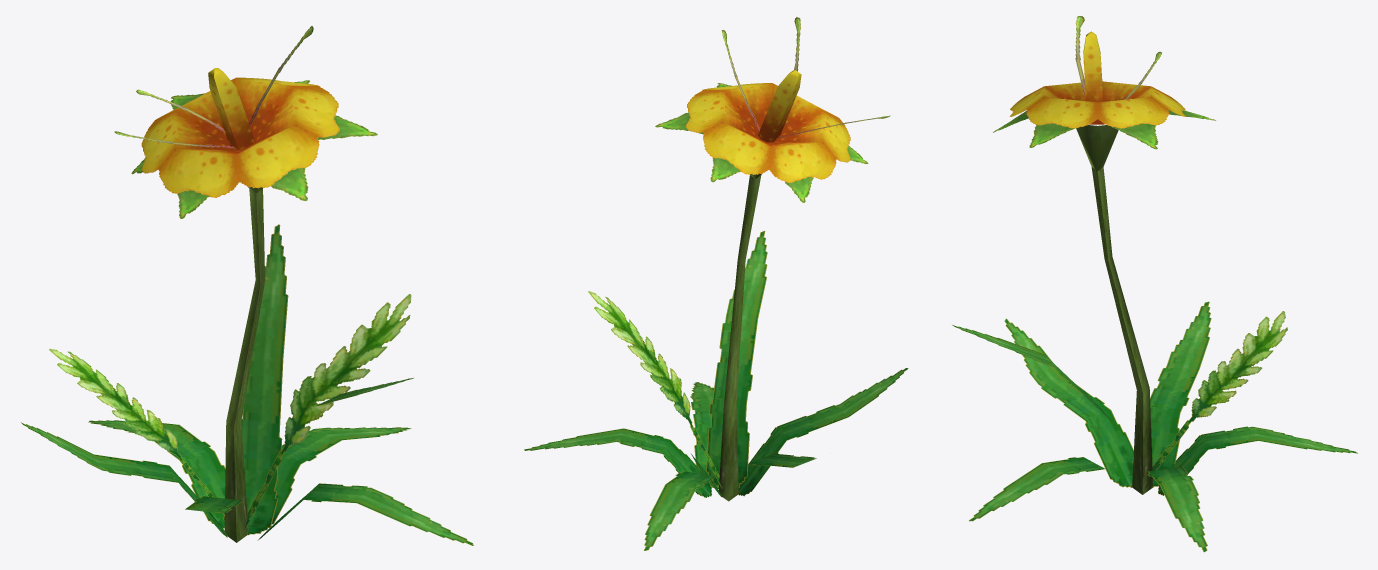
Rendered from nml-bd183.glb.
3 views of the same model, side by side, from view 1: azimuth 30°, elevation 25°; view 2: azimuth 150°, elevation 25°; view 3: azimuth 270°, elevation 25° (orthographic). The views are drawn at different scales.
Visible parts, largest first — view 1: geom_node_0, geom_node_1; view 2: geom_node_1, geom_node_0; view 3: geom_node_0, geom_node_1.
Boxes of the visible parts, left/top/right/bottom form: geom_node_0: left=21, top=224, right=473, bottom=545; geom_node_1: left=114, top=26, right=377, bottom=542; geom_node_1: left=655, top=17, right=890, bottom=501; geom_node_0: left=524, top=230, right=908, bottom=550; geom_node_0: left=952, top=301, right=1357, bottom=552; geom_node_1: left=993, top=16, right=1215, bottom=494.
Bounding box in the file's own units: 3.65 × 4.57 × 3.77.
2 materials, 2 textured.
